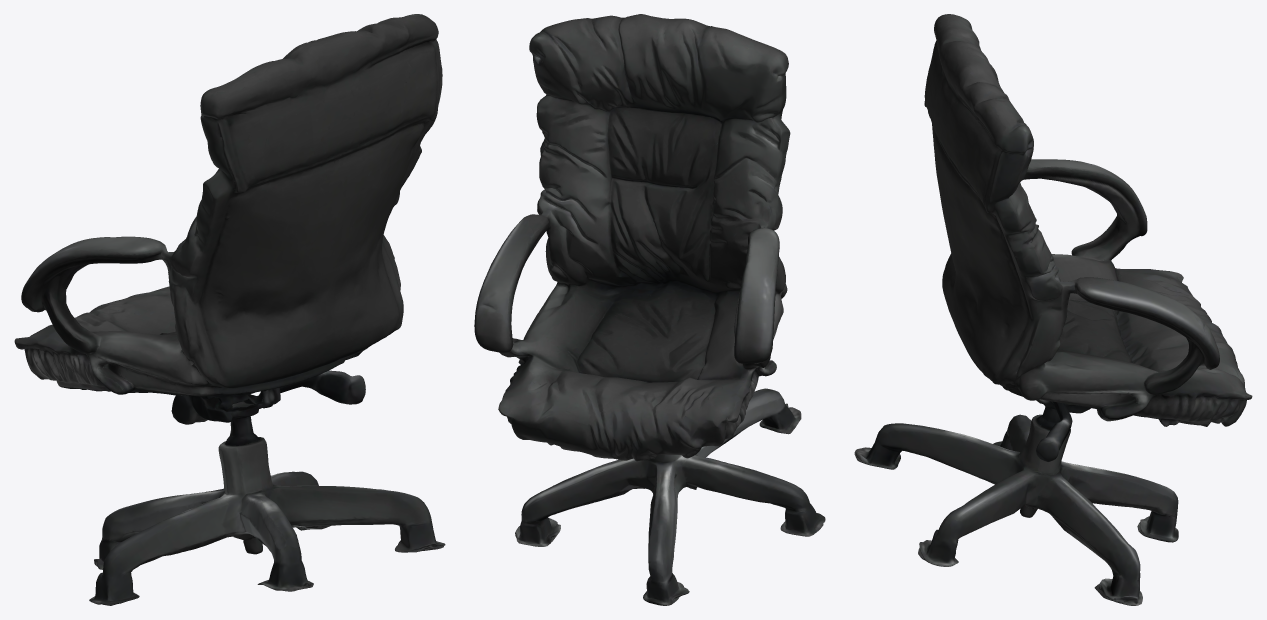
The model's file is pixal3d.glb.
3 renders of one model, left to right at view 1: azimuth 30°, elevation 25°; view 2: azimuth 150°, elevation 25°; view 3: azimuth 270°, elevation 25°, orthographic. The views are drawn at different scales.
Visible parts, largest first — view 1: world; view 2: world; view 3: world.
Boxes of the visible parts, x1,y1,x2,y2 form: world: (14, 14, 445, 605); world: (474, 14, 825, 605); world: (854, 14, 1252, 605).
Bounding box in the file's own units: 0.5778 × 0.9286 × 0.6316.
1 material, 1 textured.
